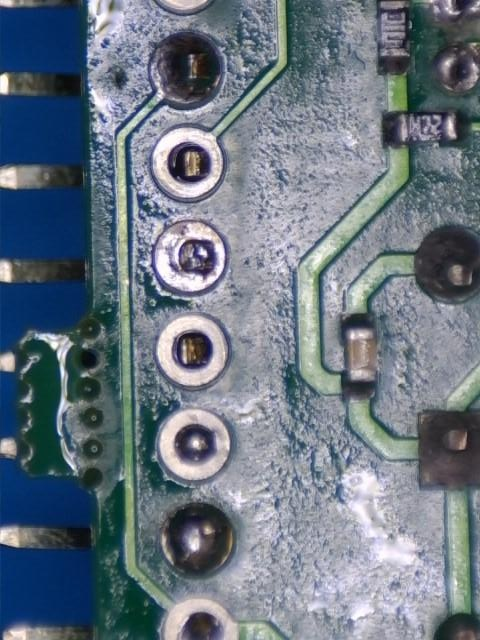pcb_defect: (161, 504, 233, 576), (156, 220, 225, 292), (160, 409, 229, 480)
